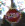stopsign: (5, 9, 22, 24)
